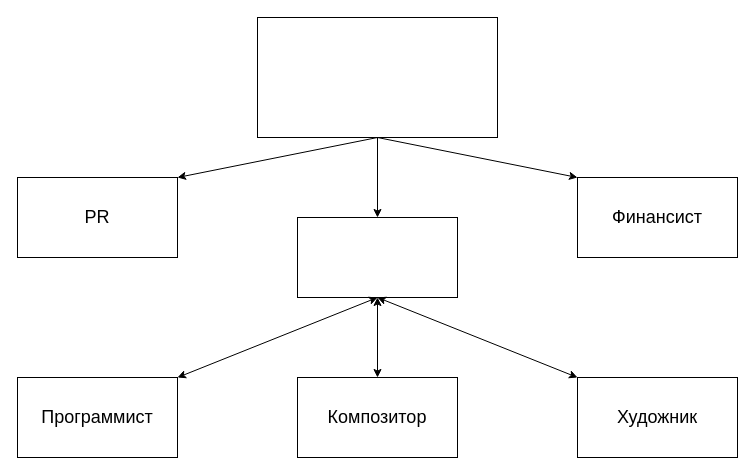
The diagram is 755 pixels wide and 475 high, and some of its shapes have lost their labels. The centre of each missing label's shape, as x and y in pixels:
Геймдизайнер: the point at 377,257
Руководитель проекта: the point at 377,77
